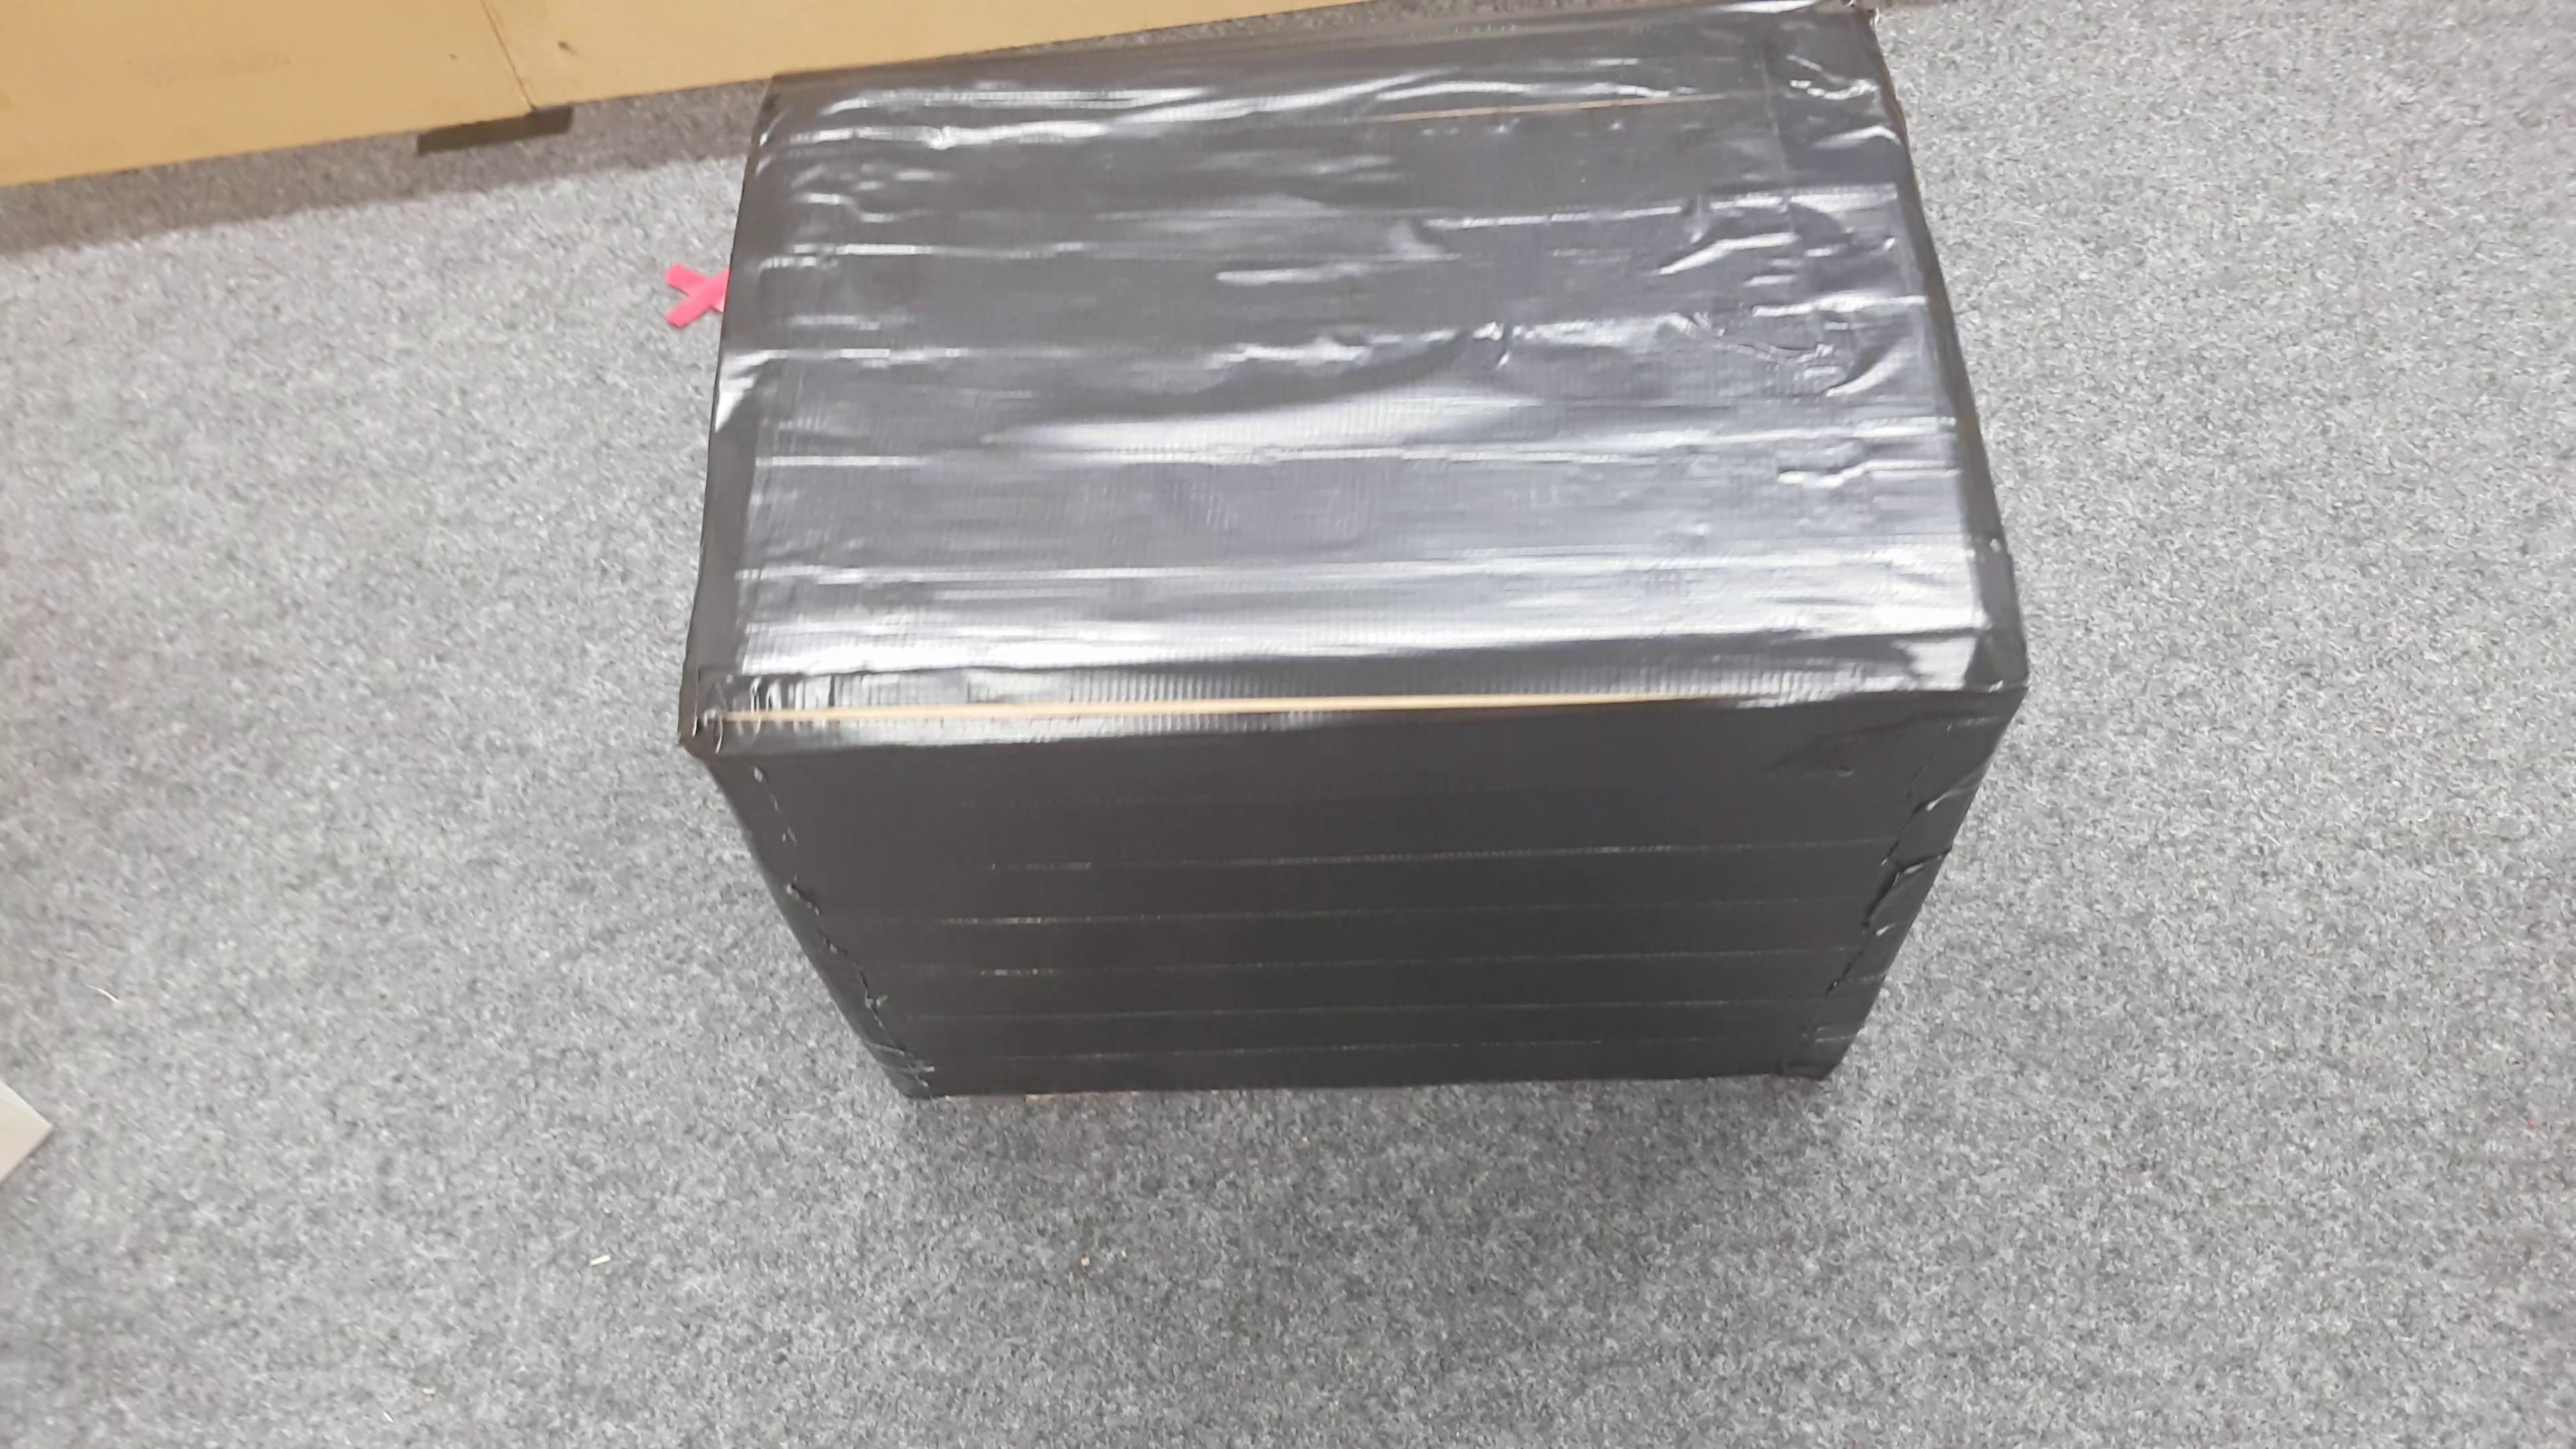push: (690, 73, 2028, 1092)
